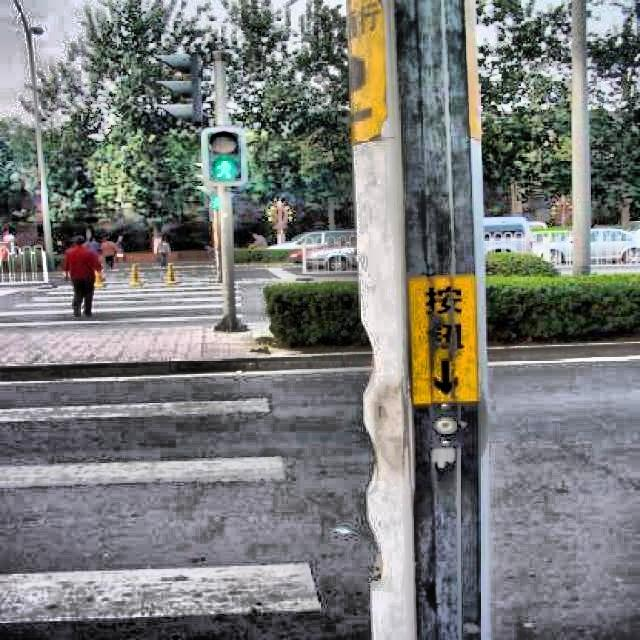semaforo pedestre: (185, 108, 263, 204)
